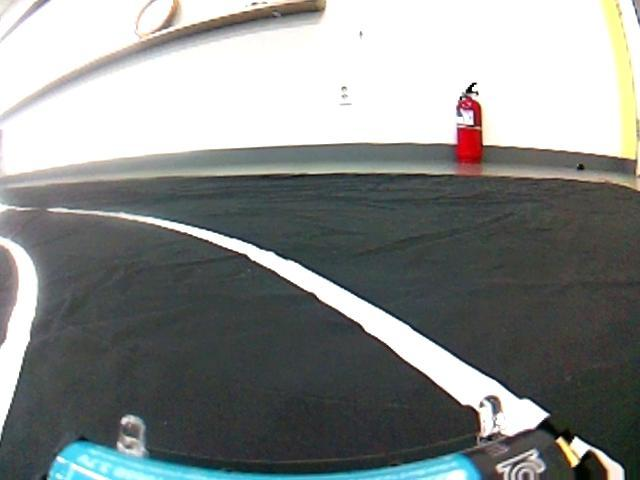left: (3, 184, 640, 480)
